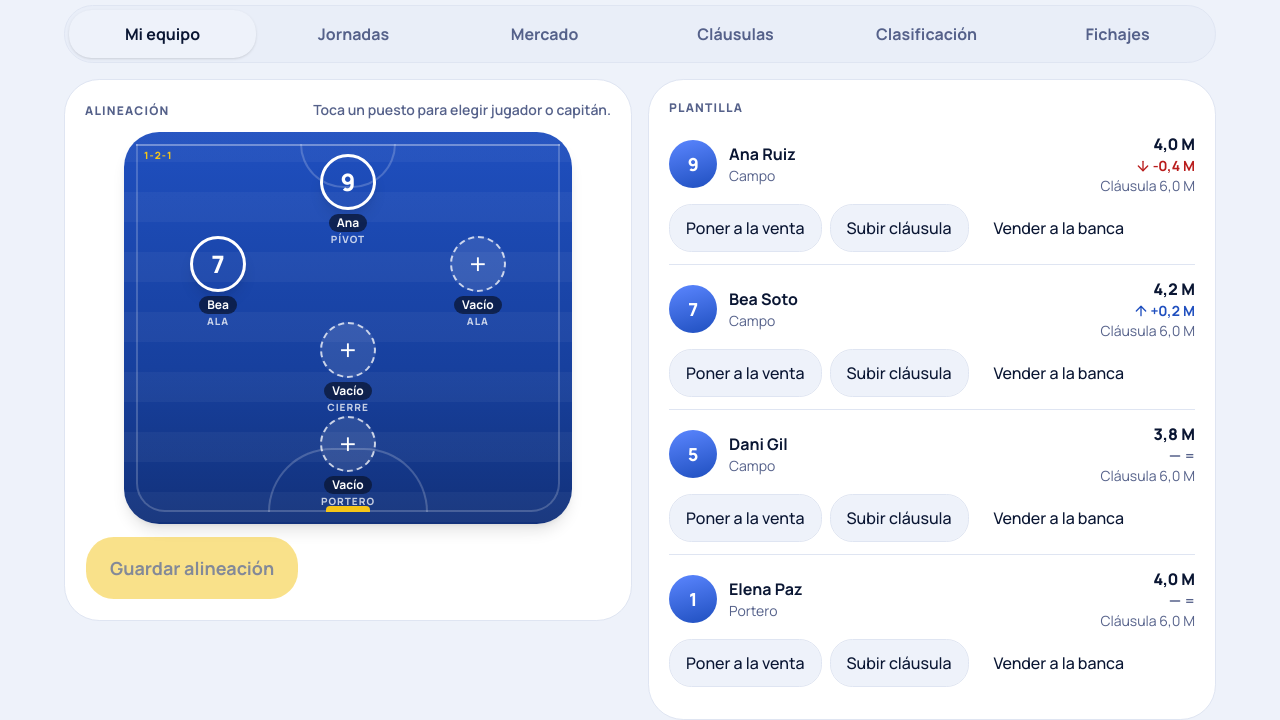
Test: Mi equipo: vender › vender a la banca confirma el 70 % antes de vender
The image size is (1280, 720).
(page scrolled)
Click the button "Vender a la banca" below "Bea Soto": (1059, 373) [976,349,1141,397]
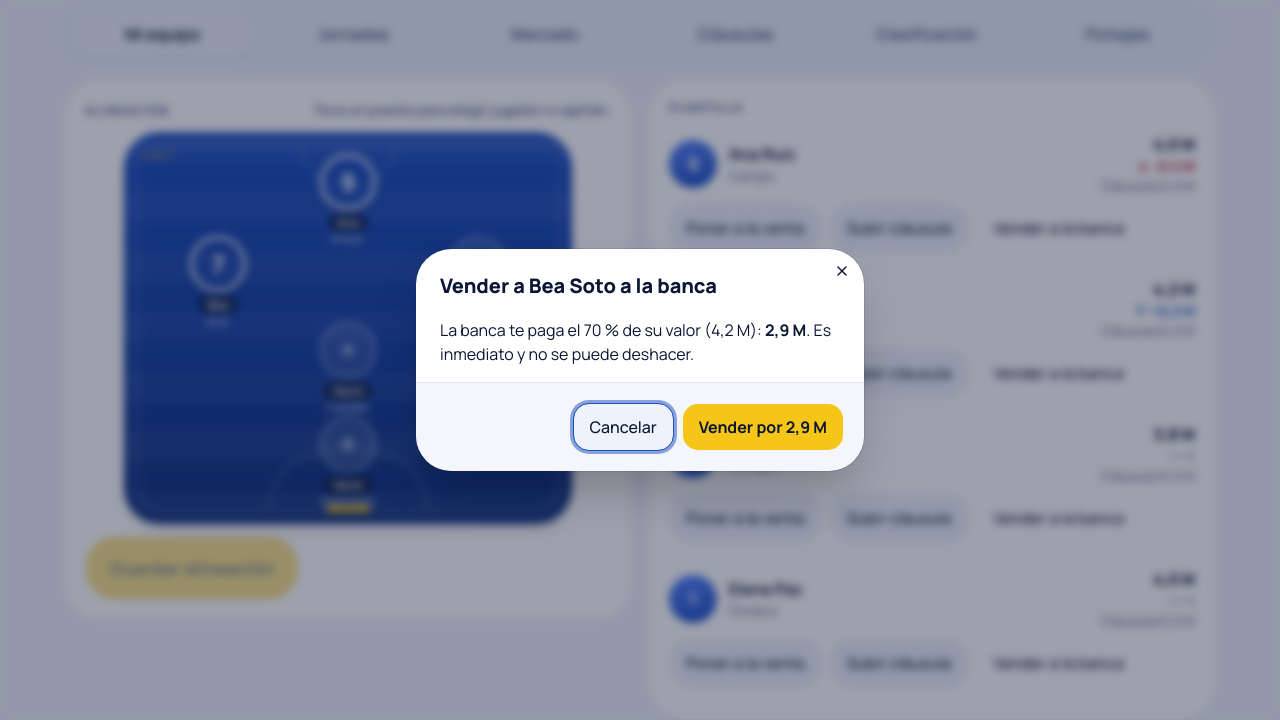
Expected: the dialog shows "2,9 M", [765,319,806,341]
Click the button "Vender por 2,9 M": (763, 427) [682,403,844,451]
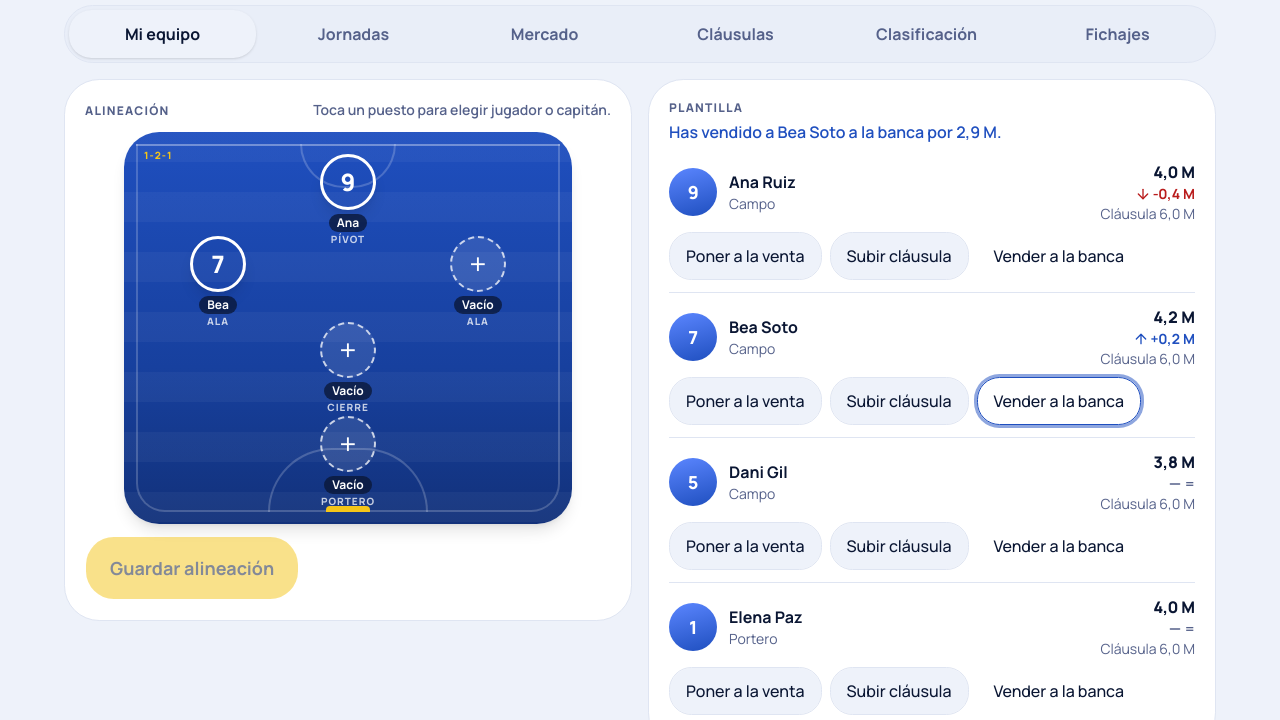
Expected: the dialog is gone
